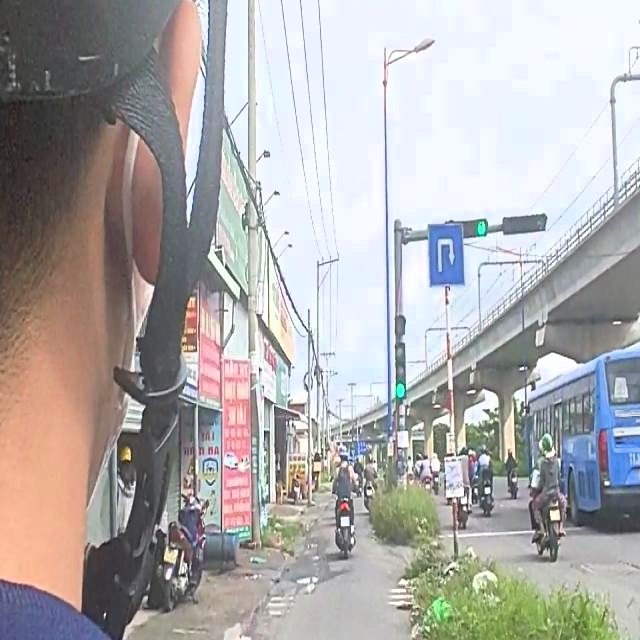I.409: (426, 218, 466, 292)
